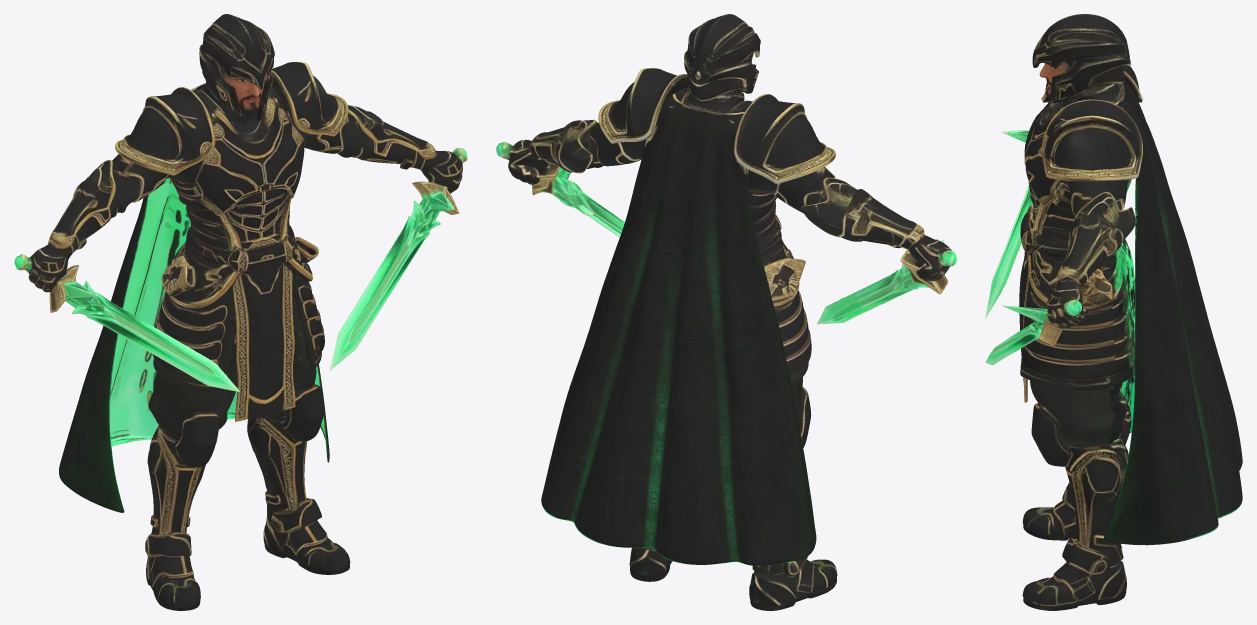
Rendered from mirage.glb.
The picture shows the model from 3 angles, left to right: view 1: azimuth 30°, elevation 25°; view 2: azimuth 150°, elevation 25°; view 3: azimuth 270°, elevation 25°; orthographic projection.
Bounding box in the file's own units: 1.62 × 1.9 × 0.8006.
Materials: 1 (1 with a texture image).
